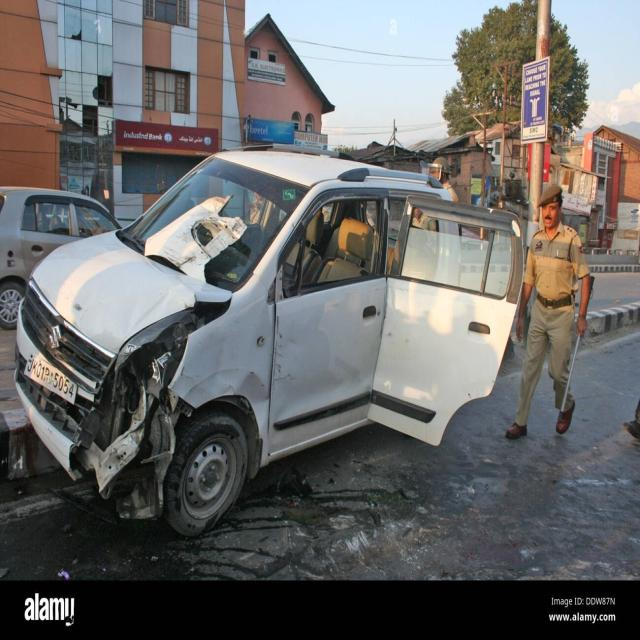accident: (15, 150, 524, 535)
